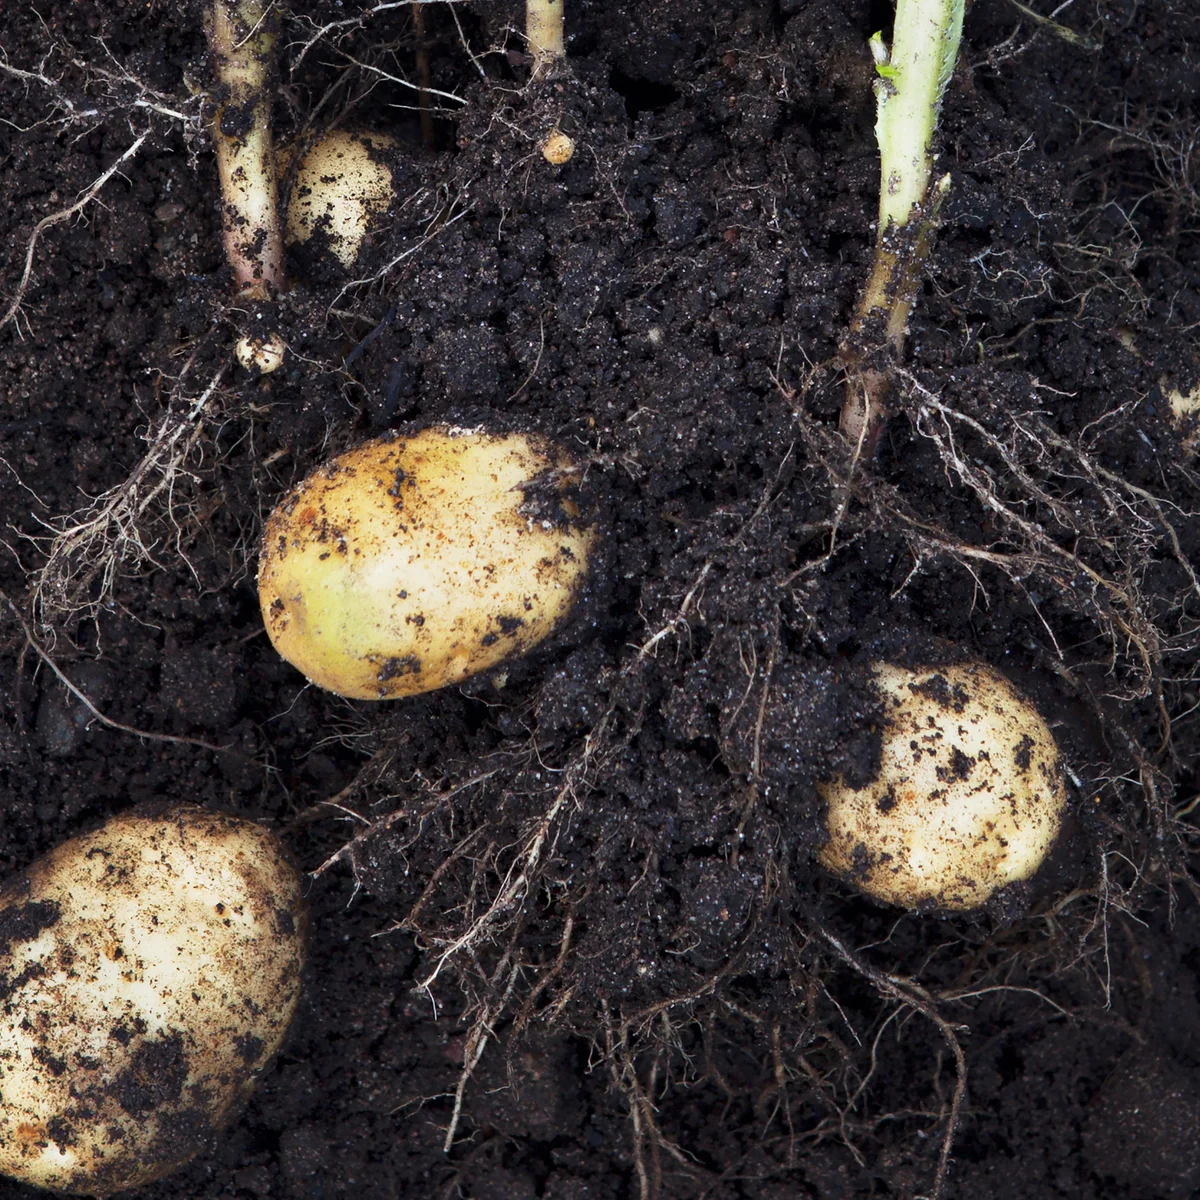potato: (251, 390, 627, 736)
